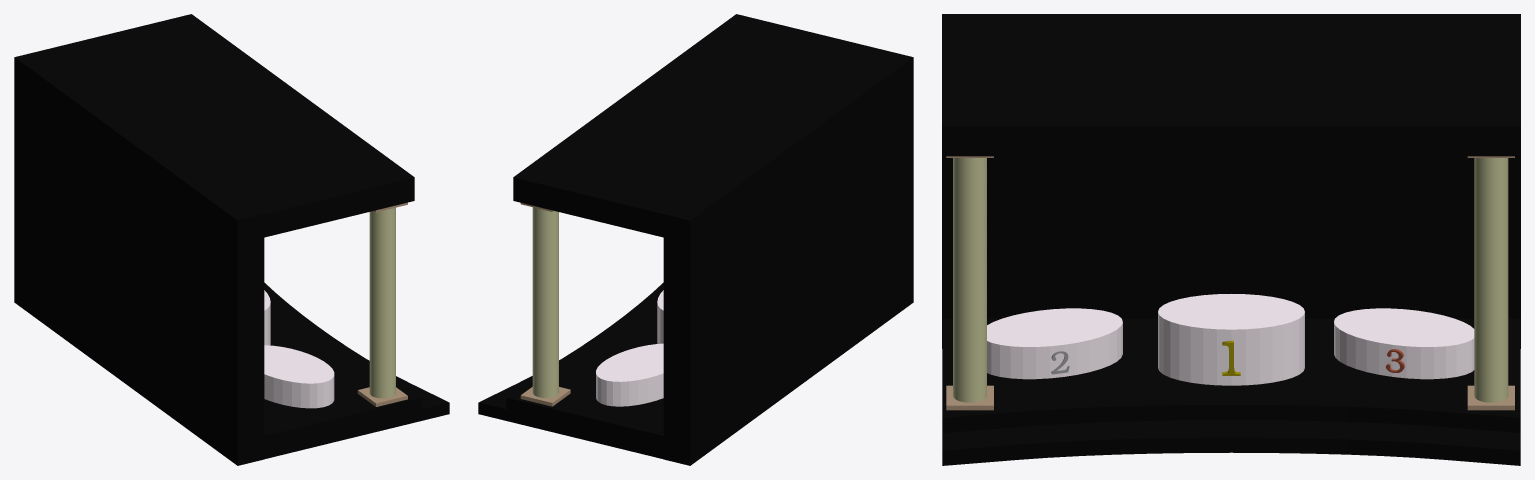
Rendered from Podium_2.fbx.
3 renders of one model, left to right at view 1: azimuth 30°, elevation 25°; view 2: azimuth 150°, elevation 25°; view 3: azimuth 270°, elevation 25°, orthographic. The views are drawn at different scales.
Parts seen in each view (by area): view 1: Cube.001, Cube, Column, Cylinder.002, Column_box_bottom; view 2: Cube.001, Cube, Column.001, Cylinder.001, Column_box_bottom.001; view 3: Cube.001, Cube, Cylinder, Cylinder.001, Column.001, Cylinder.002, Column, Column_box_bottom.001, Column_box_bottom.
Part boxes in pixels (x1=…): Cube.001: x1=14, y1=14, x2=414, y2=465; Cube: x1=264, y1=282, x2=449, y2=459; Column: x1=369, y1=207, x2=395, y2=398; Cylinder.002: x1=264, y1=345, x2=334, y2=408; Column_box_bottom: x1=357, y1=387, x2=407, y2=406; Cube.001: x1=513, y1=14, x2=913, y2=465; Cube: x1=478, y1=282, x2=663, y2=459; Column.001: x1=532, y1=207, x2=558, y2=397; Cylinder.001: x1=596, y1=343, x2=663, y2=406; Column_box_bottom.001: x1=520, y1=387, x2=570, y2=406; Cube.001: x1=942, y1=14, x2=1520, y2=348; Cube: x1=942, y1=318, x2=1520, y2=465; Cylinder: x1=1158, y1=294, x2=1304, y2=385; Cylinder.001: x1=1334, y1=308, x2=1474, y2=379; Column.001: x1=1474, y1=158, x2=1508, y2=402; Cylinder.002: x1=987, y1=308, x2=1122, y2=379; Column: x1=953, y1=158, x2=986, y2=402; Column_box_bottom.001: x1=1467, y1=385, x2=1514, y2=410; Column_box_bottom: x1=946, y1=385, x2=993, y2=410.
Size of the model in its own units: 267 by 296 by 487.
